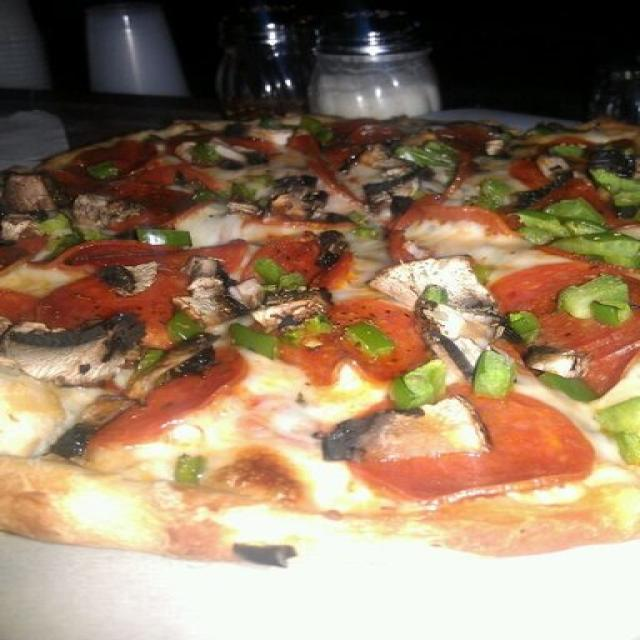Green Pepper: (526, 199, 640, 265), (596, 394, 640, 464), (564, 281, 636, 319), (393, 142, 464, 168), (252, 258, 303, 294), (34, 220, 73, 267), (397, 365, 445, 403), (482, 348, 516, 400), (593, 167, 640, 204), (350, 322, 394, 358), (546, 368, 594, 399), (236, 326, 284, 356), (134, 226, 196, 248), (596, 169, 640, 197), (238, 175, 271, 205), (171, 312, 203, 342), (300, 119, 331, 148), (419, 278, 446, 309), (176, 453, 203, 481), (189, 145, 220, 168), (550, 136, 582, 158), (352, 213, 374, 243), (86, 160, 111, 179)
Mushrooms: (410, 270, 504, 364), (6, 328, 131, 384), (0, 377, 77, 462), (230, 534, 302, 570), (74, 187, 144, 224), (279, 179, 341, 220), (321, 415, 371, 463), (0, 181, 62, 214), (366, 176, 419, 211), (493, 135, 541, 159), (537, 154, 567, 180)
Pepperoni: (348, 379, 588, 510), (1, 237, 242, 325), (494, 264, 638, 400), (95, 343, 252, 442), (272, 299, 430, 383), (392, 202, 523, 252), (265, 235, 356, 286)
Pizza: (0, 112, 640, 565)
